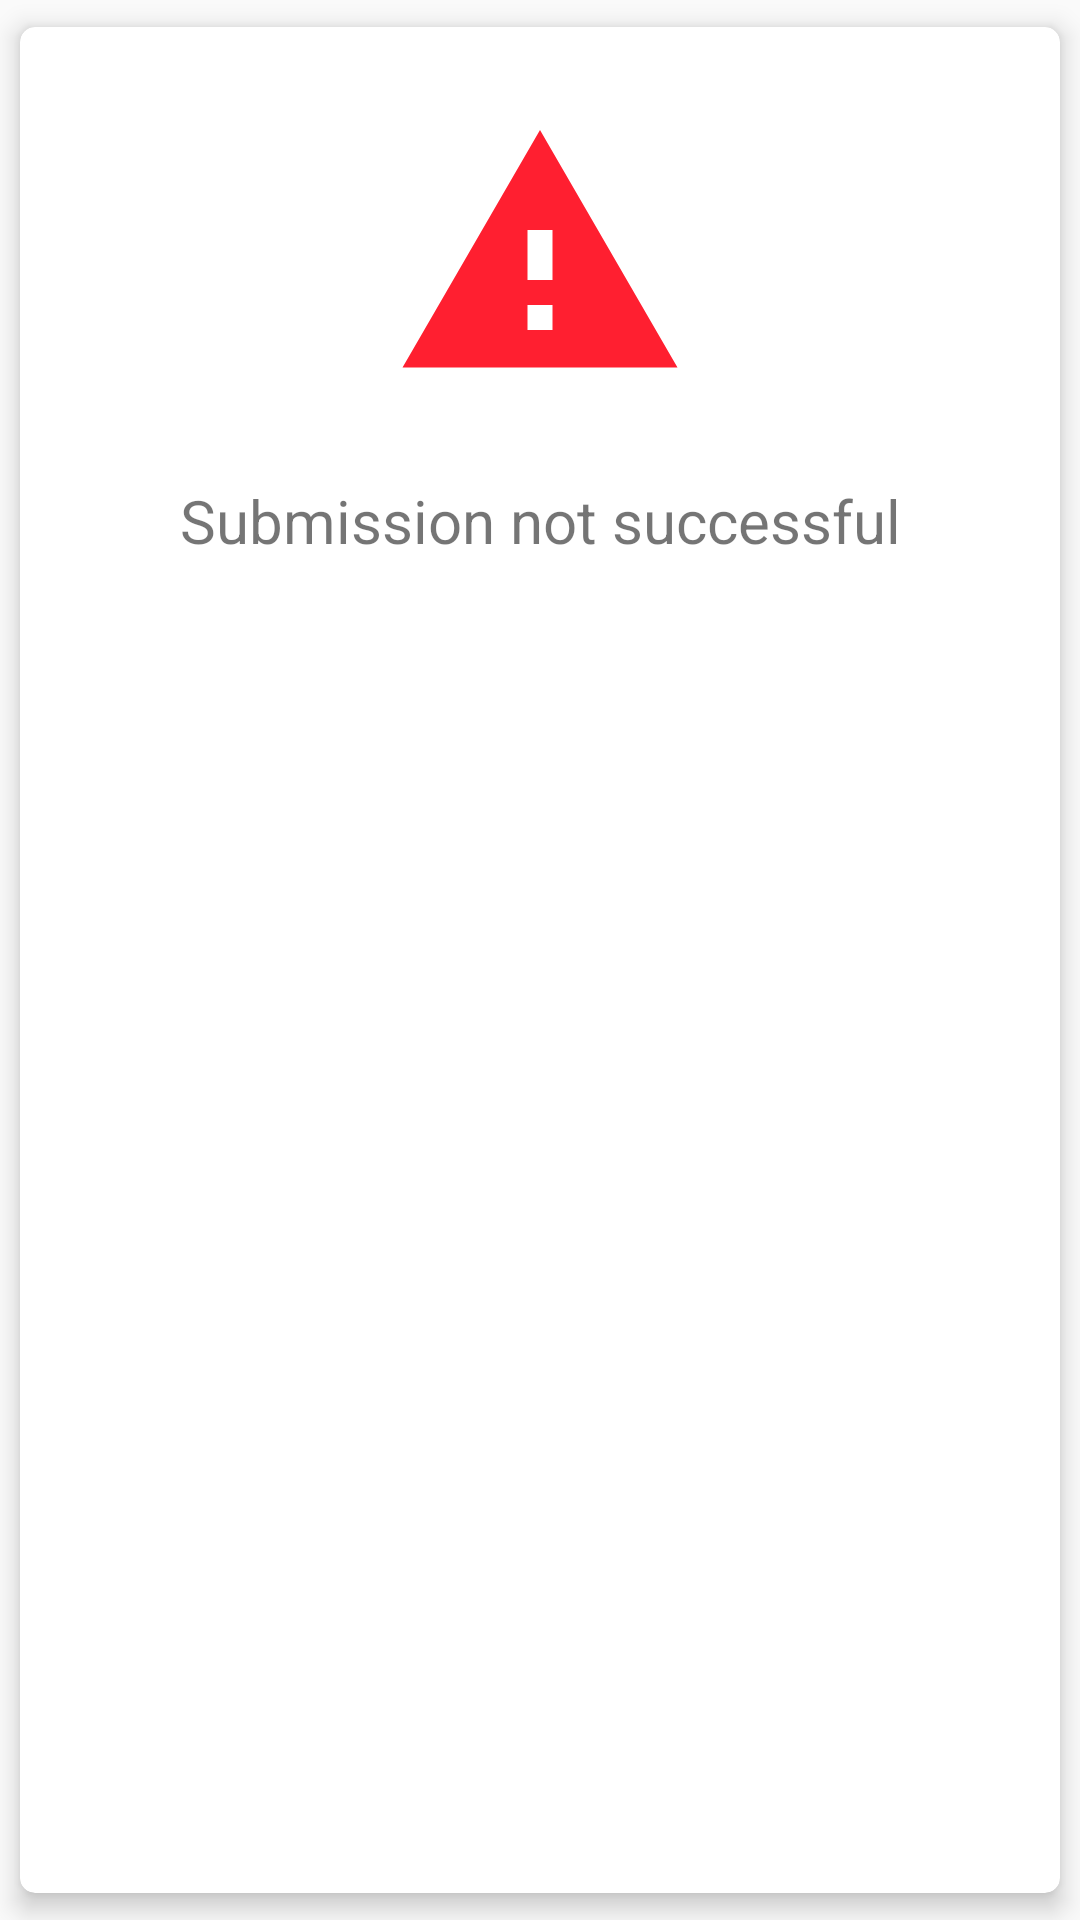

Point at icon controls on the screen. Image size 1080px x 1920px, points as [x,y].
unsuccessful: [540,249]
